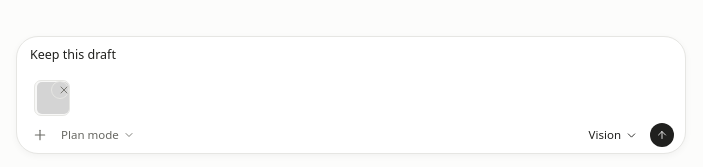
it: Composer image ingestion › restores the text and image draft when prompt admission fails
This screenshot has width=703, height=167.
Step 1. Click the button named "Send message" → click(662, 135), box [650,123,674,147]
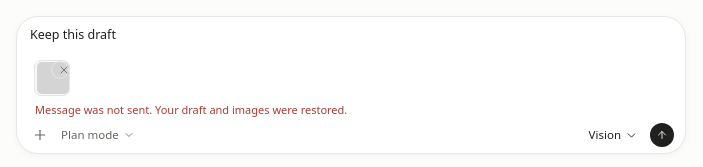
Expected: the dropdown named "Message OMP" holds "Keep this draft", [28,25,674,59]
Result: the message "Message was not sent. Your draft and images were restored." is shown at [35,102,347,117]
